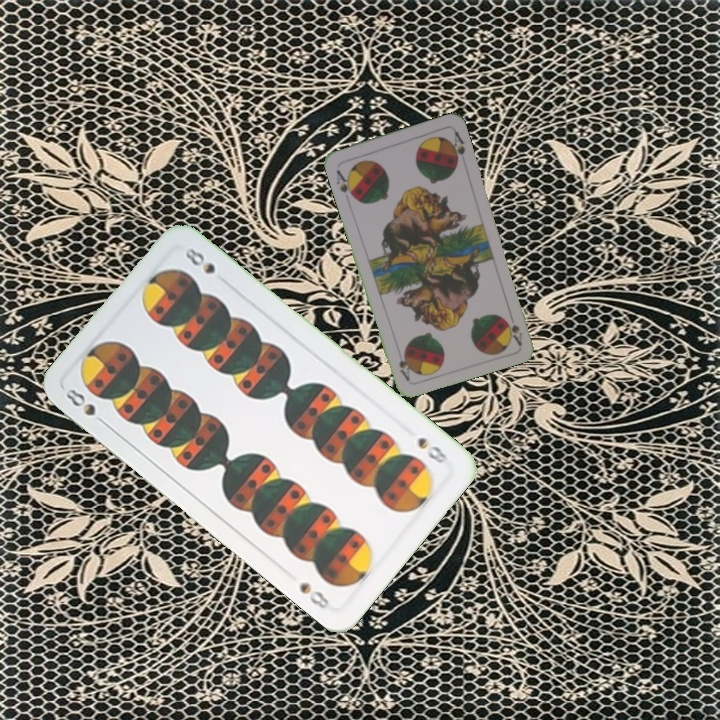S8: (61, 384, 111, 429), (413, 433, 453, 466)
SA: (332, 166, 358, 201), (502, 315, 525, 347)
